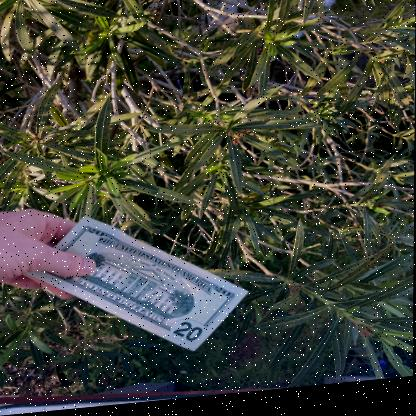twenty-back: (21, 216, 249, 351)
